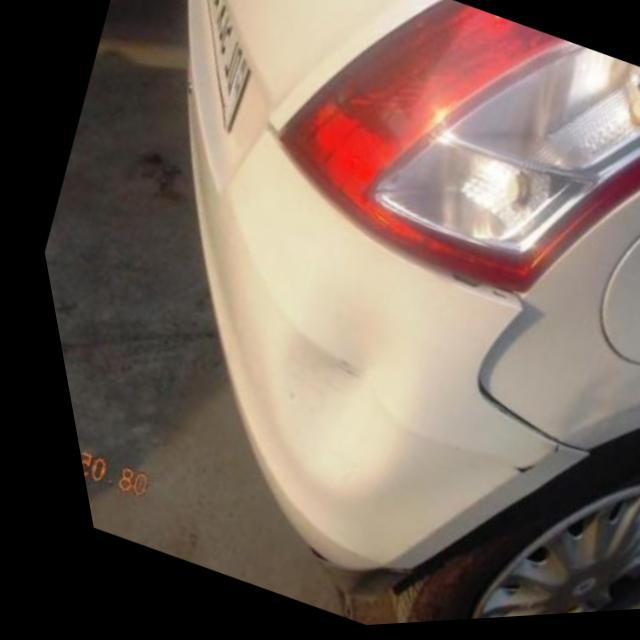dent: (251, 276, 416, 497)
dislocated part: (456, 300, 569, 472)
scratch: (488, 448, 550, 483), (318, 358, 362, 399)
